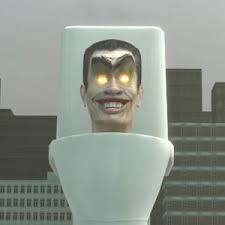skibidi-toilet: (84, 40, 144, 128)
